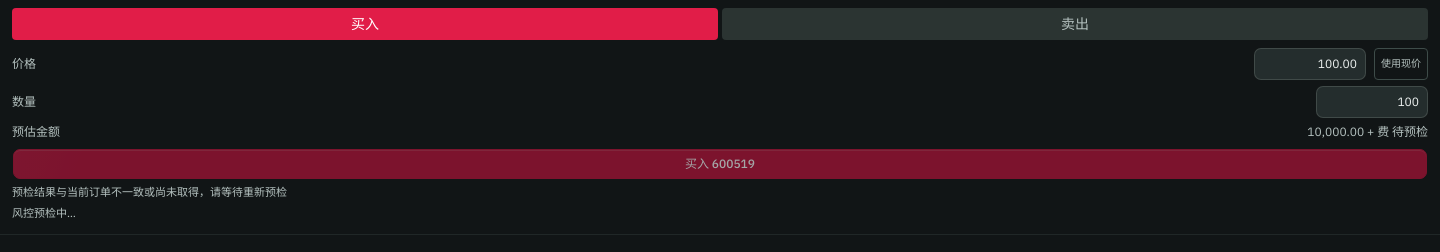
Test: TradeForm · R19 预检结果绑定订单签名 › 旧请求失败不得清掉更新一轮的成功结论
Replace the text in the field labelled "数量" with "200": (1372, 102) [1316,86,1428,118]
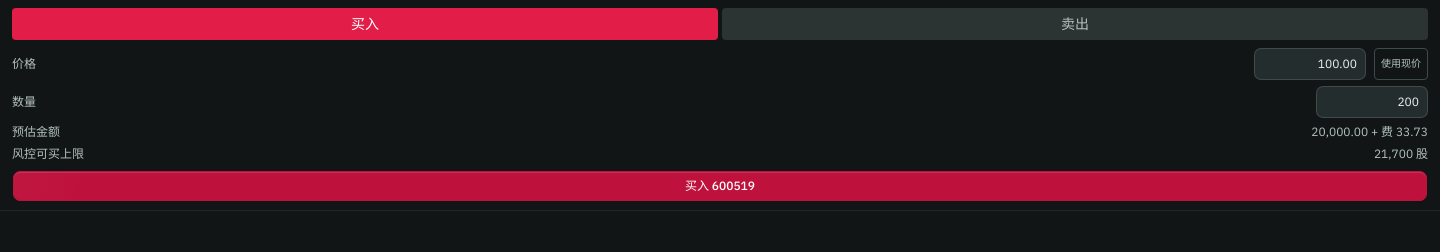
Result: the text "21,700 股" is shown at [1374,146,1428,162]
Result: the button "买入 600519" is enabled at [12,170,1428,202]
